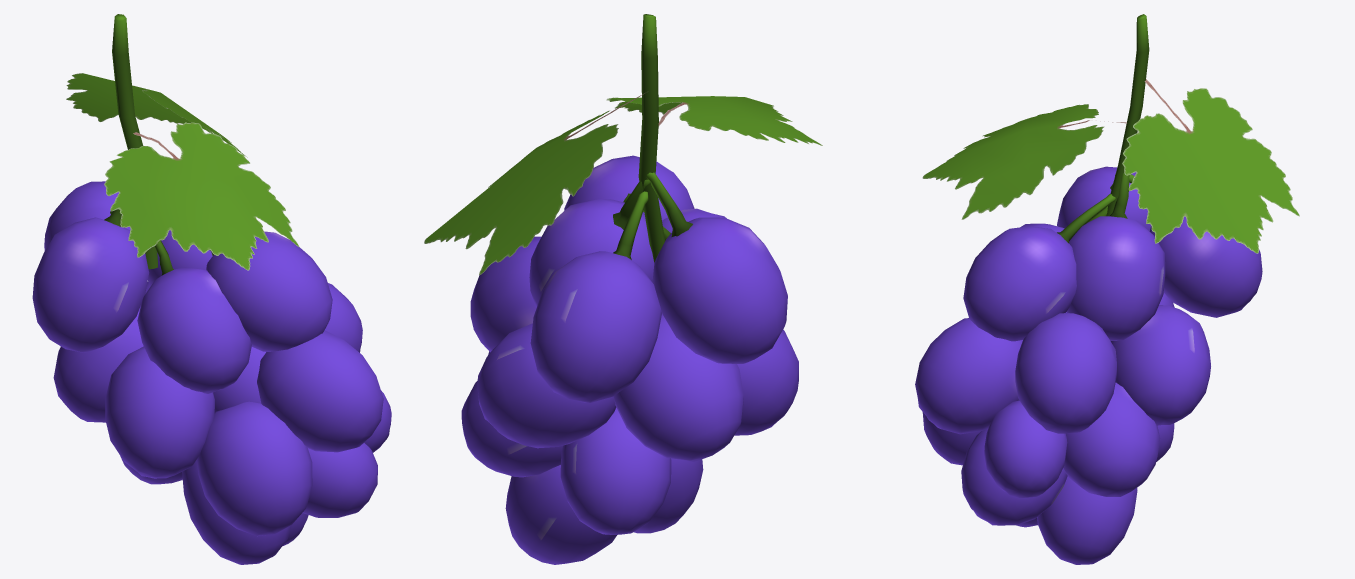
File: Grape_Cluster.fbx
3 renders of one model, left to right at view 1: azimuth 30°, elevation 25°; view 2: azimuth 150°, elevation 25°; view 3: azimuth 270°, elevation 25°, orthographic. The views are drawn at different scales.
Visible parts, largest first — view 1: Sphere.004; view 2: Sphere.004; view 3: Sphere.004.
Part boxes in pixels (bbox=[...]): Sphere.004: bbox=[32, 14, 391, 564]; Sphere.004: bbox=[424, 14, 822, 564]; Sphere.004: bbox=[915, 14, 1299, 564].
Size of the model in its own units: 42.37 by 72.23 by 56.41.
